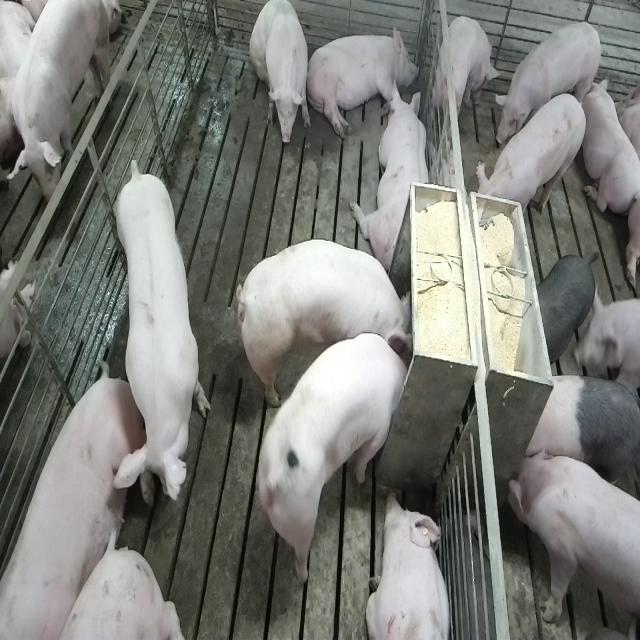Feeding: (262, 330, 419, 586), (242, 236, 420, 395)
Lateral_lying: (306, 22, 418, 141)
Sitting: (250, 0, 311, 148)
Standing: (112, 154, 212, 516), (506, 446, 638, 640), (0, 0, 115, 216), (518, 370, 638, 517), (477, 90, 588, 230), (496, 22, 605, 151), (435, 13, 502, 131), (534, 254, 596, 365)
Sternal_lying: (352, 80, 432, 274), (367, 491, 454, 640), (579, 73, 637, 216)
